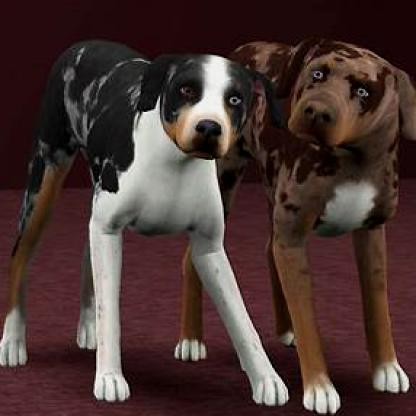dog: (1, 39, 286, 409), (171, 37, 416, 415)
